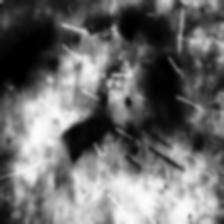Potentially Malignant Skin Tumors: (0, 10, 180, 164)
